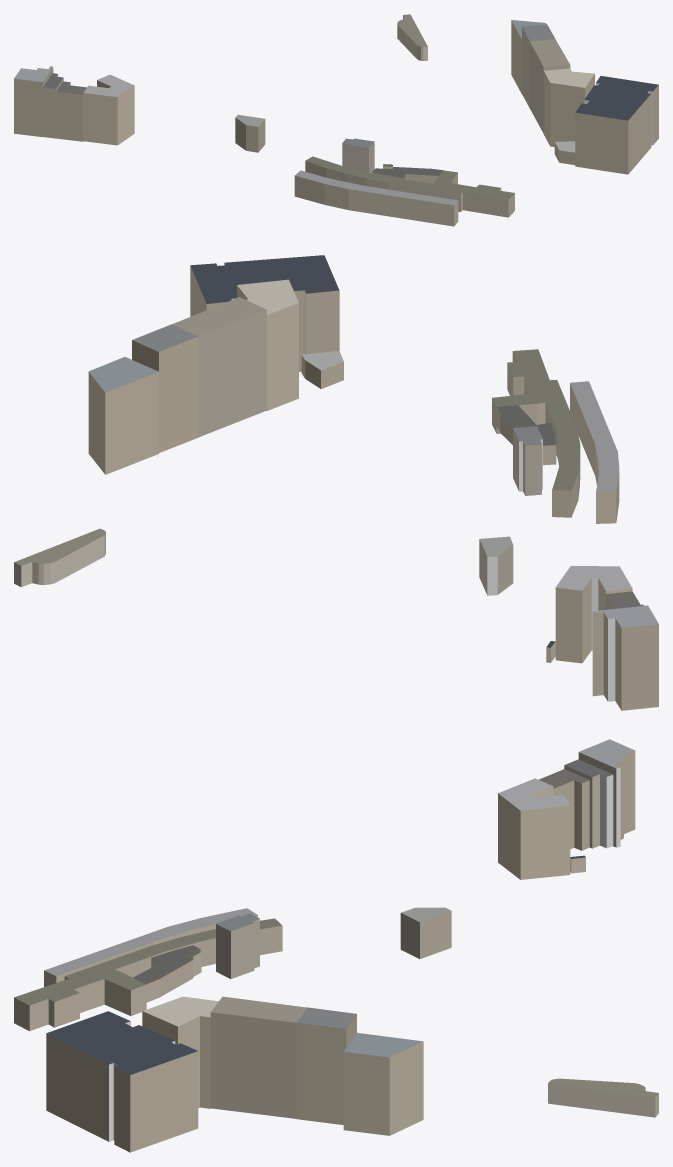
3 views of the same model, one above another, from view 1: azimuth 30°, elevation 25°; view 2: azimuth 150°, elevation 25°; view 3: azimuth 270°, elevation 25° (orthographic). The views are drawn at different scales.
Parts seen in each view (by area): view 1: tuile; view 2: tuile; view 3: tuile.
Part boxes in pixels (bbox=[...]): tuile: bbox=[14, 14, 658, 226]; tuile: bbox=[14, 255, 658, 710]; tuile: bbox=[14, 739, 658, 1152].
Bounding box in the file's own units: 240 × 36.87 × 195.
